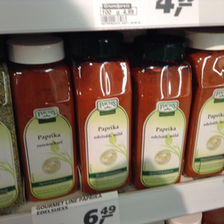spices: (10, 37, 78, 201), (72, 33, 131, 193), (130, 39, 192, 190), (187, 31, 224, 177)
